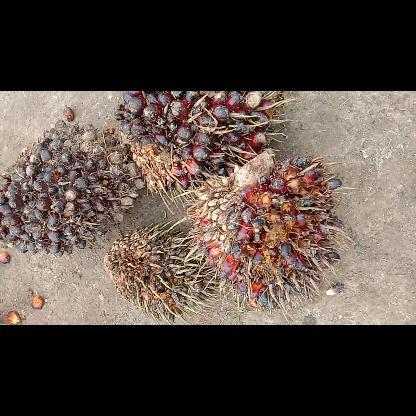Kurang masak: (0, 120, 146, 252), (115, 91, 279, 187)
TBS abnormal: (104, 226, 208, 322)
TBS masak: (187, 155, 340, 307)
